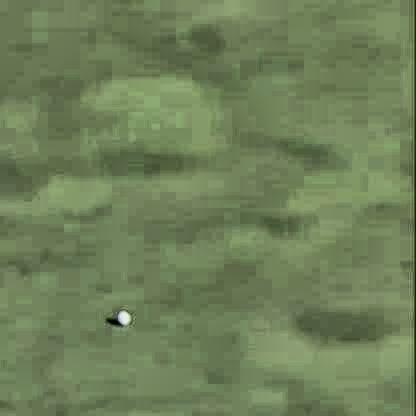golfball: (112, 307, 130, 323)
